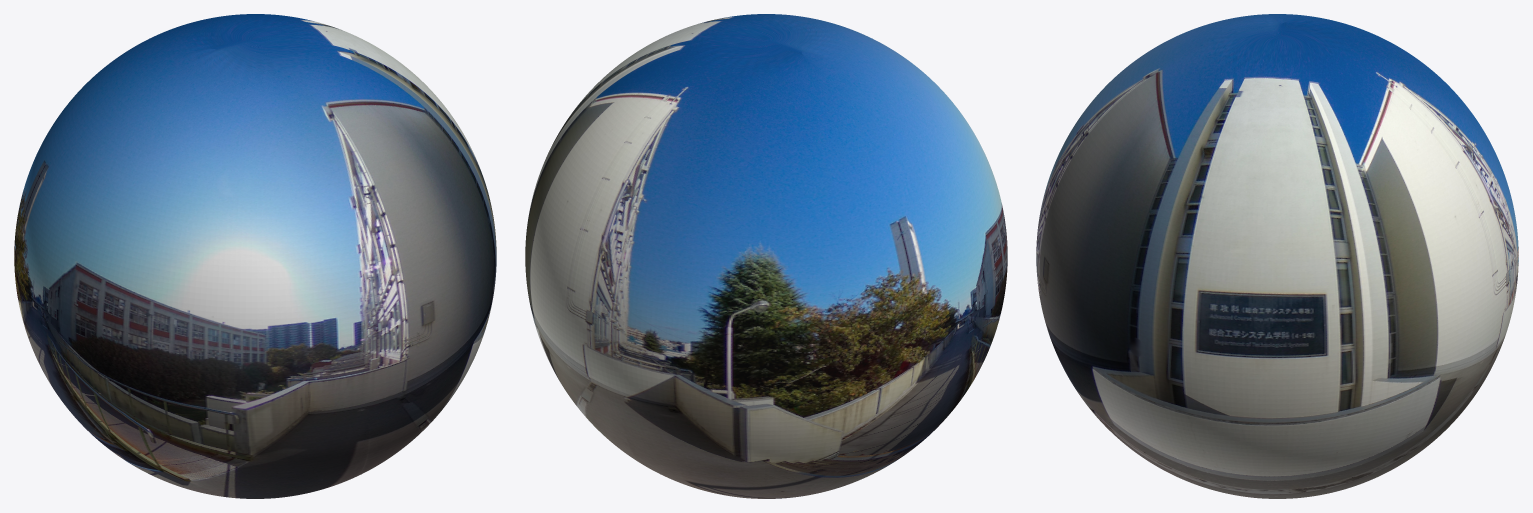
File: sennmonntouiriguti.fbx
3 renders of one model, left to right at view 1: azimuth 30°, elevation 25°; view 2: azimuth 150°, elevation 25°; view 3: azimuth 270°, elevation 25°, orthographic.
Parts seen in each view (by area): view 1: 球; view 2: 球; view 3: 球.
Part boxes in pixels (x1,y1,x2,y2): 球: (14, 14, 496, 498); 球: (525, 14, 1007, 498); 球: (1036, 14, 1518, 498).
Size of the model in its own units: 197 by 196 by 197.
1 material, 1 textured.
